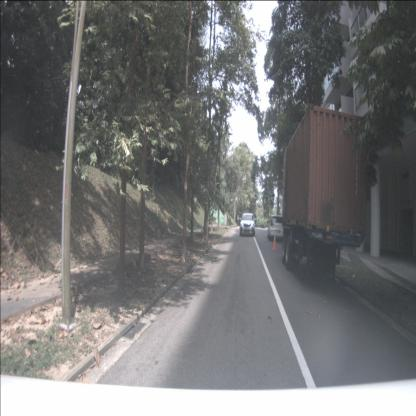movable_object-trafficcone: (272, 234, 277, 250)
vehicle-car: (267, 216, 286, 241), (240, 212, 256, 237)
vehicle-truck: (282, 105, 371, 279)
